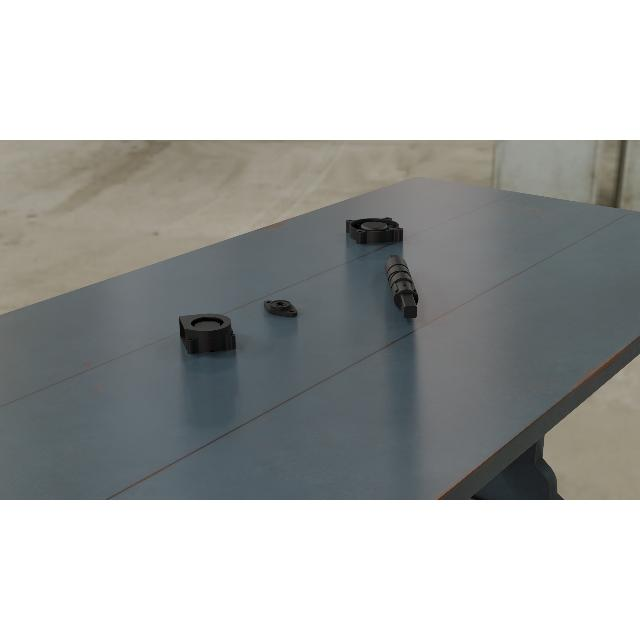Pieza1: (382, 250, 423, 324)
Pieza2: (255, 295, 305, 319)
Pieza3: (178, 312, 238, 356)
Pieza4: (344, 217, 406, 245)
